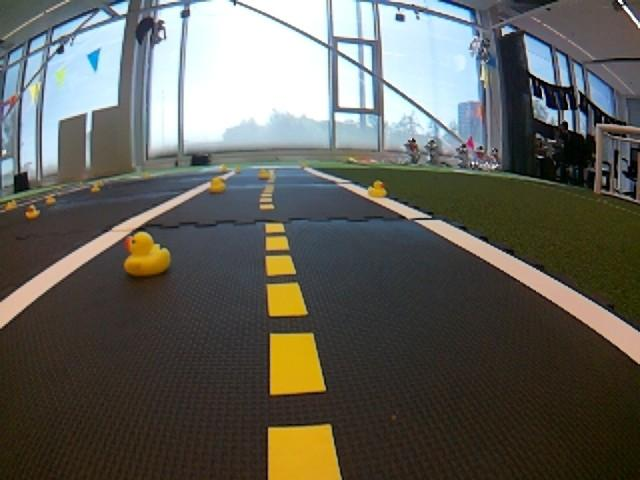Duckies: (123, 232, 171, 277), (369, 180, 387, 196), (210, 178, 225, 193), (26, 206, 40, 219), (259, 170, 272, 179), (6, 200, 17, 209), (91, 182, 100, 193), (44, 197, 54, 205)
